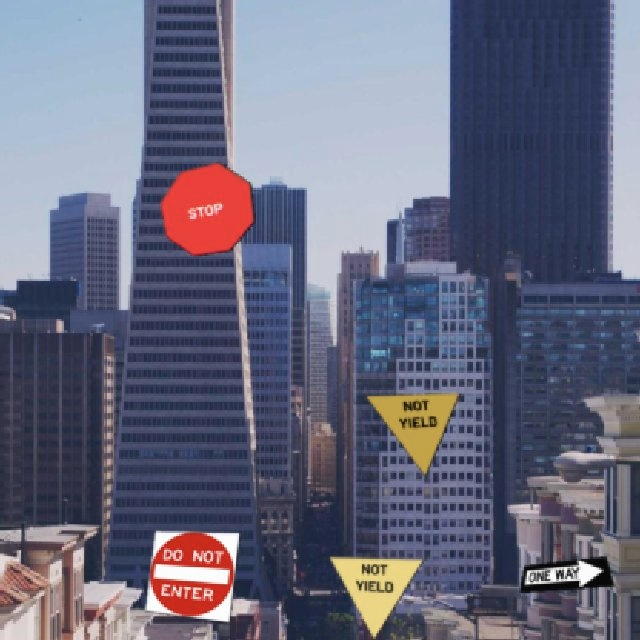DO_NOT_ENTER: (143, 529, 239, 622)
NOT_YIELD: (363, 391, 459, 476), (327, 555, 423, 639)
ONE_WAY_ right: (517, 554, 613, 592)
STOP: (158, 160, 254, 255)
